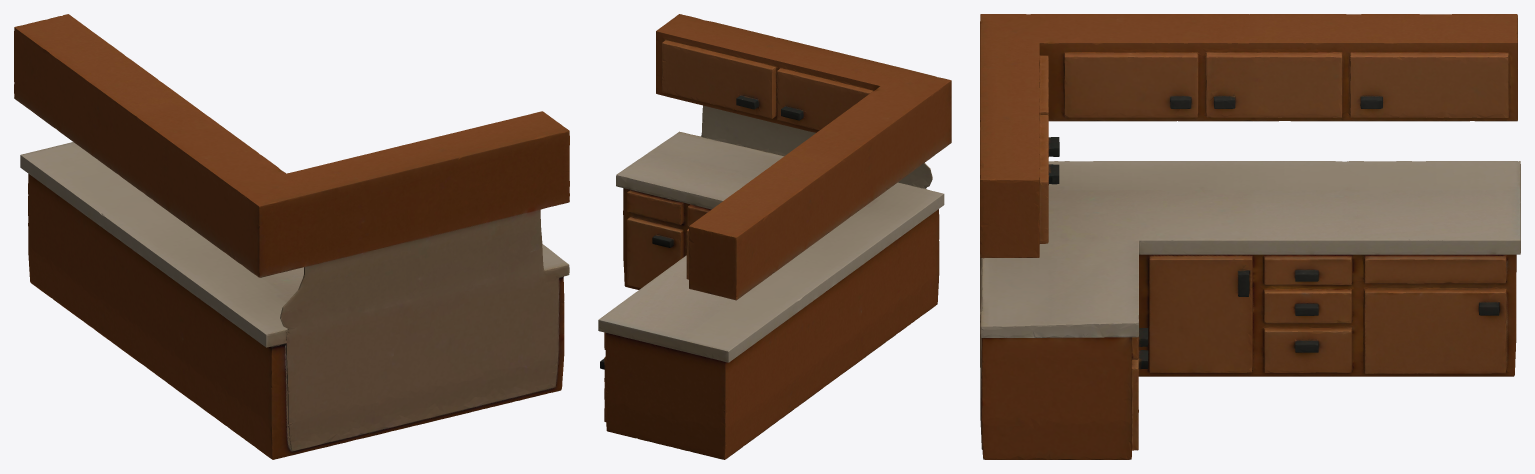
Rendered from kitchen+cabinets+3d+model.glb.
The picture shows the model from 3 angles, left to right: view 1: azimuth 30°, elevation 25°; view 2: azimuth 150°, elevation 25°; view 3: azimuth 270°, elevation 25°; orthographic projection. The views are drawn at different scales.
Parts seen in each view (by area): view 1: tripo_node_318b6407-e572-4058-8c75-b8082678b1d2; view 2: tripo_node_318b6407-e572-4058-8c75-b8082678b1d2; view 3: tripo_node_318b6407-e572-4058-8c75-b8082678b1d2.
Boxes of the visible parts, <box> form: tripo_node_318b6407-e572-4058-8c75-b8082678b1d2: <box>14,14,569,459</box>; tripo_node_318b6407-e572-4058-8c75-b8082678b1d2: <box>598,14,951,459</box>; tripo_node_318b6407-e572-4058-8c75-b8082678b1d2: <box>980,14,1520,459</box>.
Bounding box in the file's own units: 0.7272 × 0.5797 × 1.
1 material, 1 textured.
